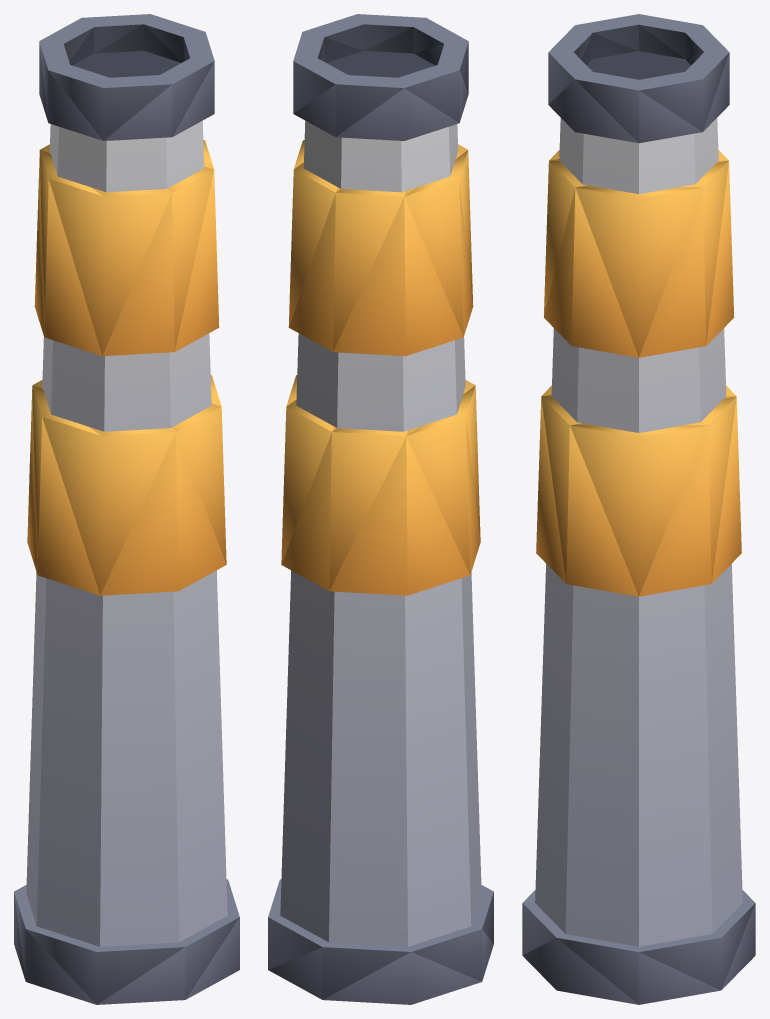
Rendered from chimney.glb.
3 views of the same model, side by side, from view 1: azimuth 30°, elevation 25°; view 2: azimuth 150°, elevation 25°; view 3: azimuth 270°, elevation 25° (orthographic).
Parts seen in each view (by area): view 1: chimney-medium; view 2: chimney-medium; view 3: chimney-medium.
Part boxes in pixels (x1=…): chimney-medium: x1=14, y1=14, x2=239, y2=1004; chimney-medium: x1=268, y1=14, x2=493, y2=1004; chimney-medium: x1=522, y1=14, x2=755, y2=1004.
Bounding box in the file's own units: 2.81 × 12 × 2.81.
Materials: 1 (1 with a texture image).
